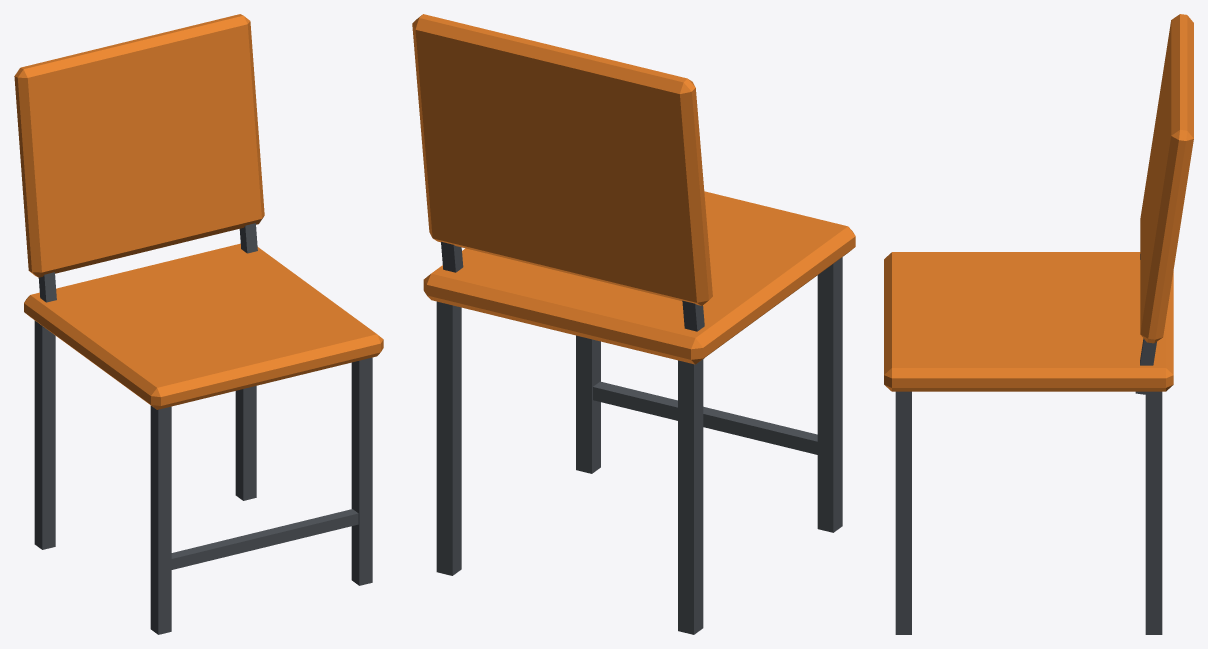
File: break_chair.glb
3 views of the same model, side by side, from view 1: azimuth 30°, elevation 25°; view 2: azimuth 150°, elevation 25°; view 3: azimuth 270°, elevation 25° (orthographic). The views are drawn at different scales.
Parts seen in each view (by area): view 1: BreakChair; view 2: BreakChair; view 3: BreakChair.
Boxes of the visible parts, x1,y1,x2,y2 form: BreakChair: [14, 14, 383, 634]; BreakChair: [412, 14, 855, 634]; BreakChair: [884, 14, 1193, 634].
Size of what is drawn, in the model's own units: 0.44 by 0.849 by 0.4707.
